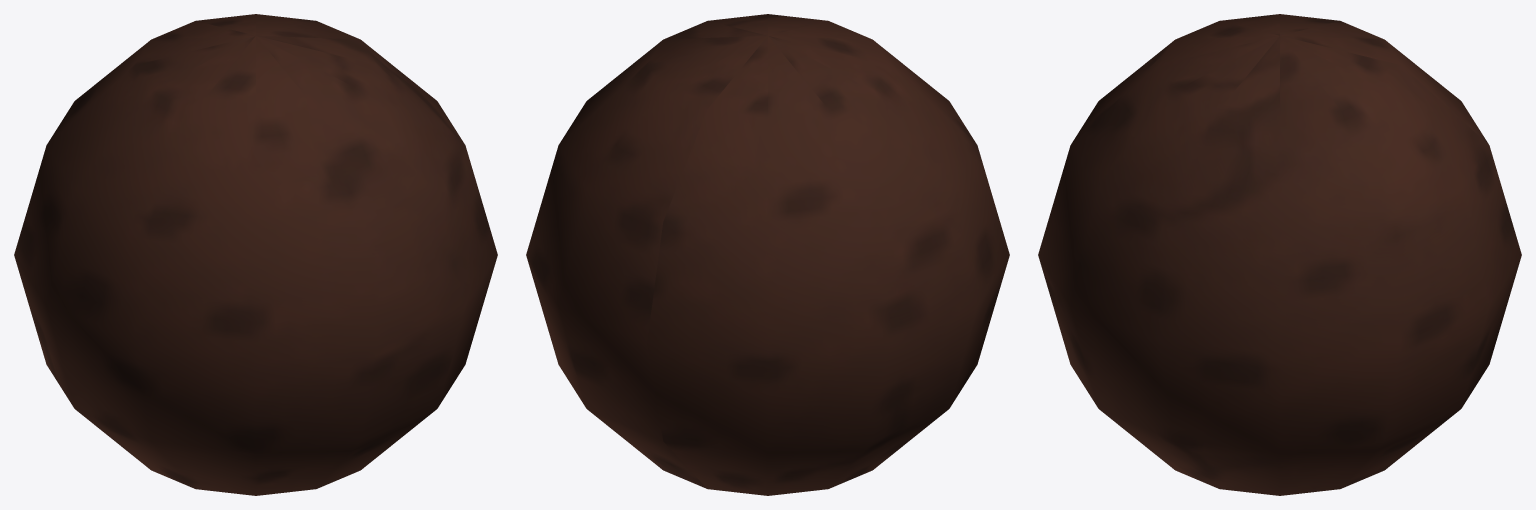
The model's file is DoubleCooked_BouletteBurned.fbx.
3 views of the same model, side by side, from view 1: azimuth 30°, elevation 25°; view 2: azimuth 150°, elevation 25°; view 3: azimuth 270°, elevation 25° (orthographic).
Parts seen in each view (by area): view 1: DoubleCooked_BouletteBurned; view 2: DoubleCooked_BouletteBurned; view 3: DoubleCooked_BouletteBurned.
Boxes of the visible parts, x1,y1,x2,y2 form: DoubleCooked_BouletteBurned: [14, 14, 497, 495]; DoubleCooked_BouletteBurned: [526, 14, 1009, 495]; DoubleCooked_BouletteBurned: [1038, 14, 1521, 495].
Size of the model in its own units: 9.06 by 9.06 by 9.06.
Materials: 1 (1 with a texture image).
